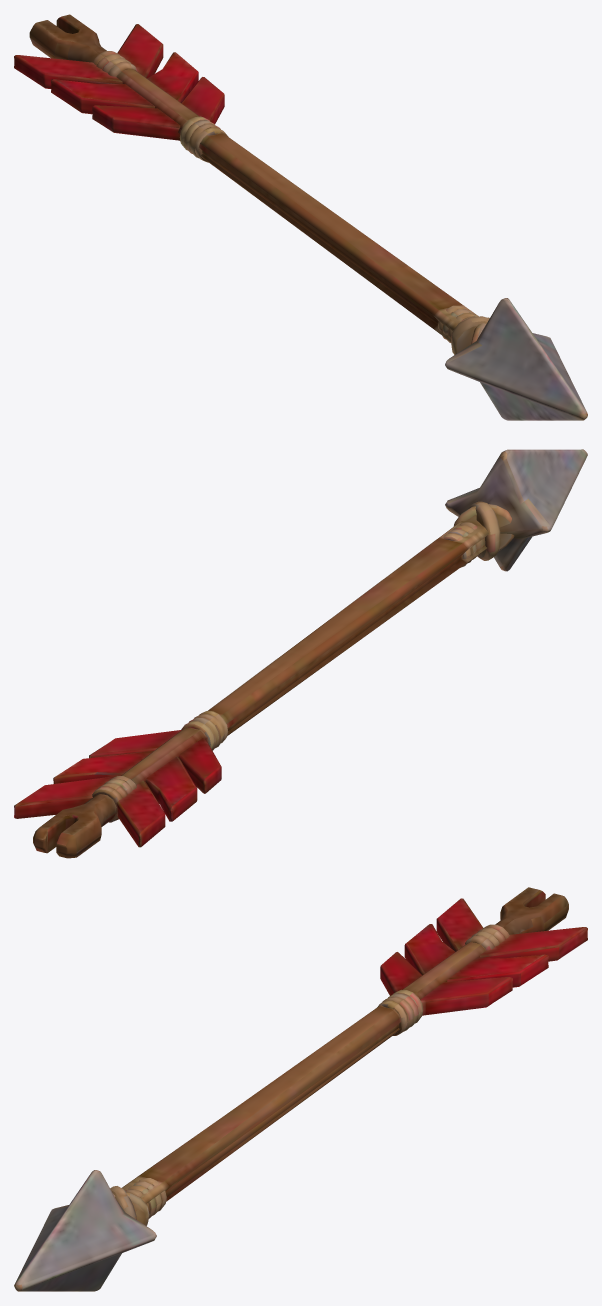
File: Arrow.glb
The picture shows the model from 3 angles, top to bottom: view 1: azimuth 30°, elevation 25°; view 2: azimuth 150°, elevation 25°; view 3: azimuth 330°, elevation 25°; orthographic projection.
Visible parts, largest first — view 1: SkeletonArcher_ArrowFree; view 2: SkeletonArcher_ArrowFree; view 3: SkeletonArcher_ArrowFree.
Part boxes in pixels (x1,y1,x2,y2): SkeletonArcher_ArrowFree: (14,14,587,420); SkeletonArcher_ArrowFree: (14,449,587,858); SkeletonArcher_ArrowFree: (14,887,587,1291).
Size of the model in its own units: 0.0748 by 0.0686 by 0.55.
Materials: 1 (1 with a texture image).
